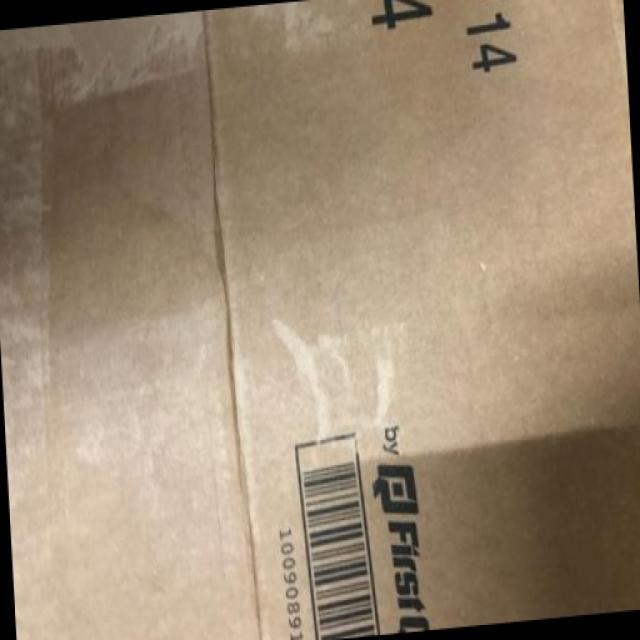carton: (23, 8, 598, 566)
